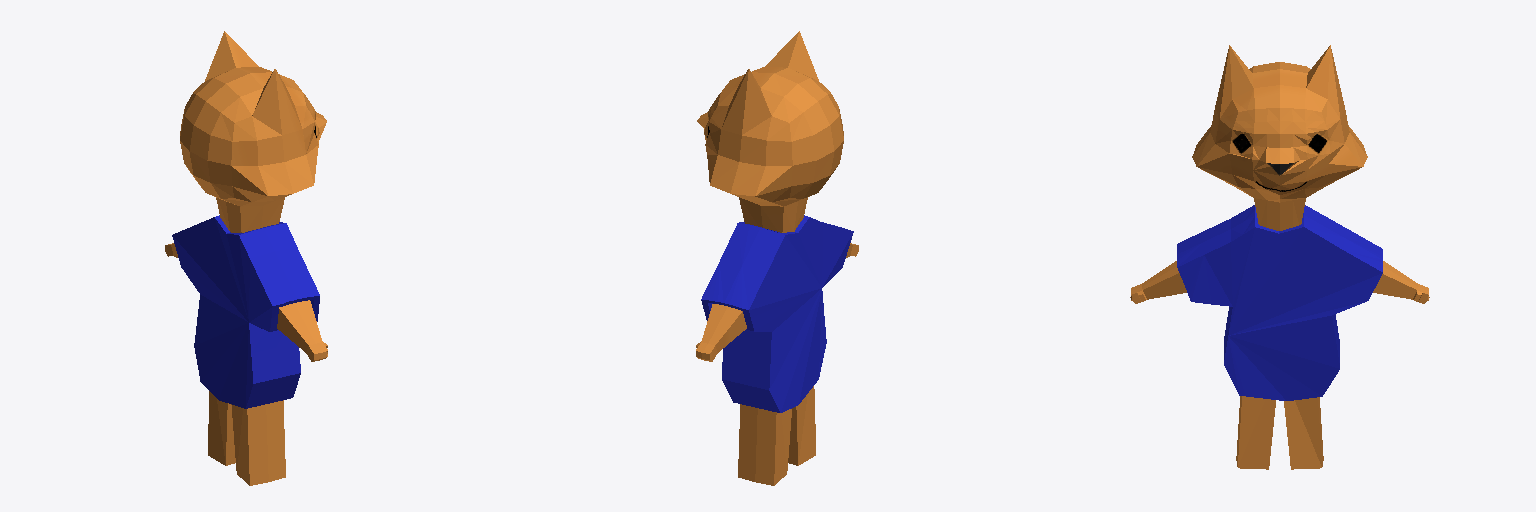
3 renders of one model, left to right at view 1: azimuth 30°, elevation 25°; view 2: azimuth 150°, elevation 25°; view 3: azimuth 270°, elevation 25°, orthographic.
Parts seen in each view (by area): view 1: Cube, Cube001; view 2: Cube, Cube001; view 3: Cube, Cube001.
Part boxes in pixels (x1,y1,x2,y2): Cube: (165, 31, 327, 485); Cube001: (172, 215, 319, 408); Cube: (696, 31, 858, 485); Cube001: (701, 215, 853, 412); Cube: (1130, 45, 1429, 469); Cube001: (1177, 205, 1382, 400).
Bounding box in the file's own units: 185 × 553 × 360.
Materials: 2 (2 with a texture image).